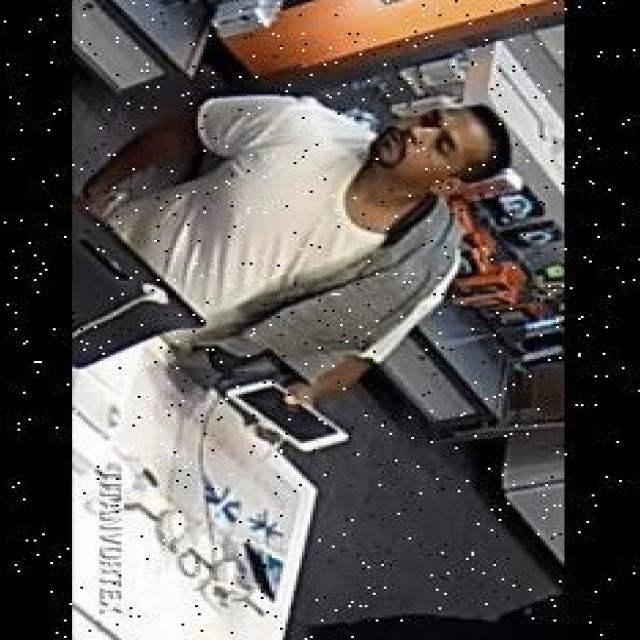Shoplifting: (74, 63, 522, 473)
